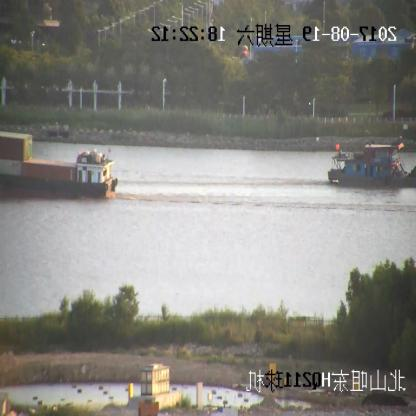Container Ship: (1, 131, 116, 201)
